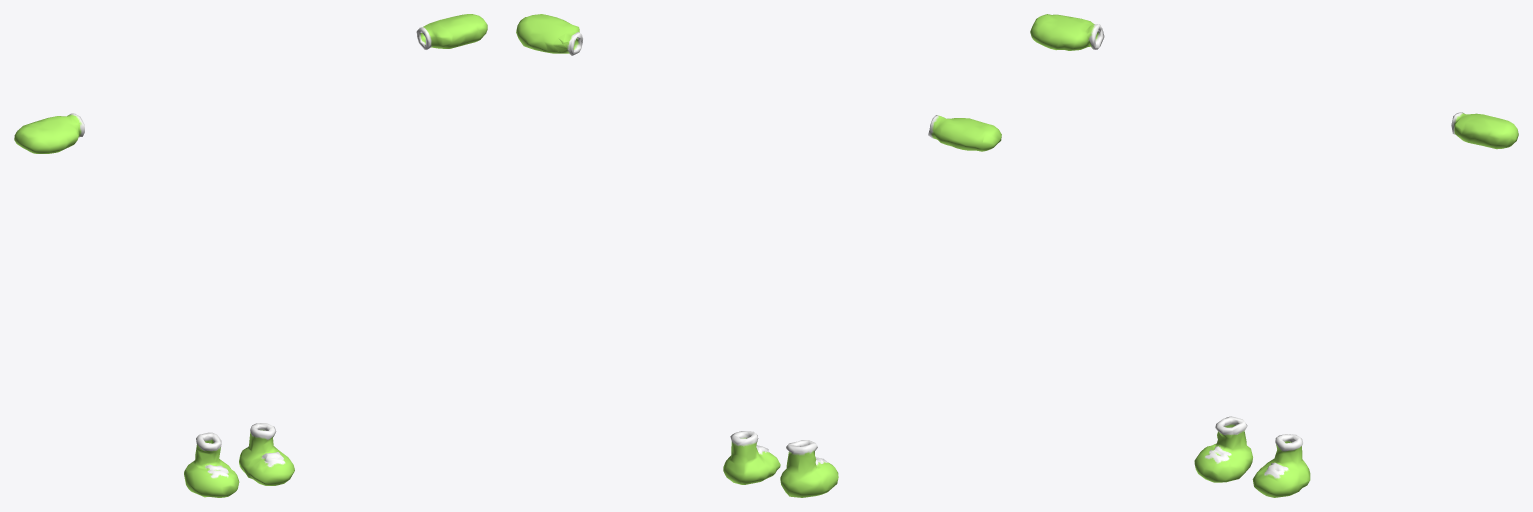
File: green shoes and gloves.glb
The picture shows the model from 3 angles, left to right: view 1: azimuth 30°, elevation 25°; view 2: azimuth 150°, elevation 25°; view 3: azimuth 330°, elevation 25°; orthographic projection. The views are drawn at different scales.
Visible parts, largest first — view 1: accessories_christmas_green.001; view 2: accessories_christmas_green.001; view 3: accessories_christmas_green.001.
Part boxes in pixels (box(x1,y1,x2,y2)): accessories_christmas_green.001: box(14, 14, 487, 497); accessories_christmas_green.001: box(516, 14, 1001, 497); accessories_christmas_green.001: box(1030, 14, 1518, 497).
Size of the model in its own units: 1.01 by 0.8409 by 0.1314.
Materials: 1 (1 with a texture image).
